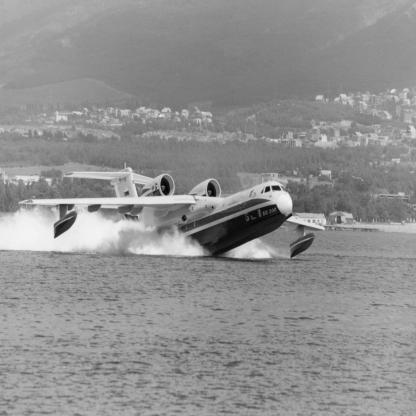Be200: (19, 163, 327, 260)
